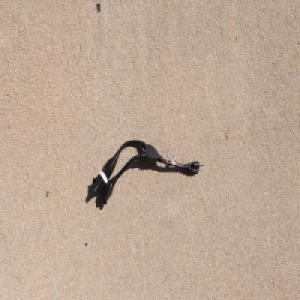Wire: (91, 138, 205, 205)
